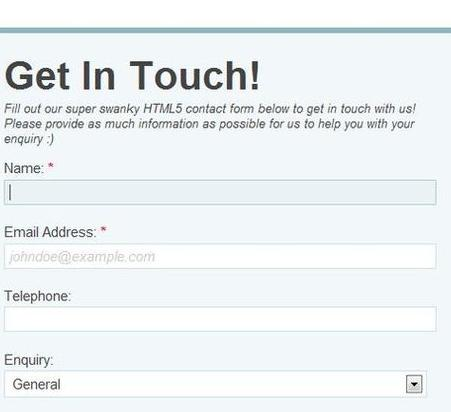field: (4, 175, 437, 207), (5, 369, 426, 400), (4, 304, 438, 334), (4, 241, 438, 270)
field_with_label: (0, 158, 441, 211), (1, 223, 442, 273), (3, 352, 429, 402), (2, 288, 442, 335)
